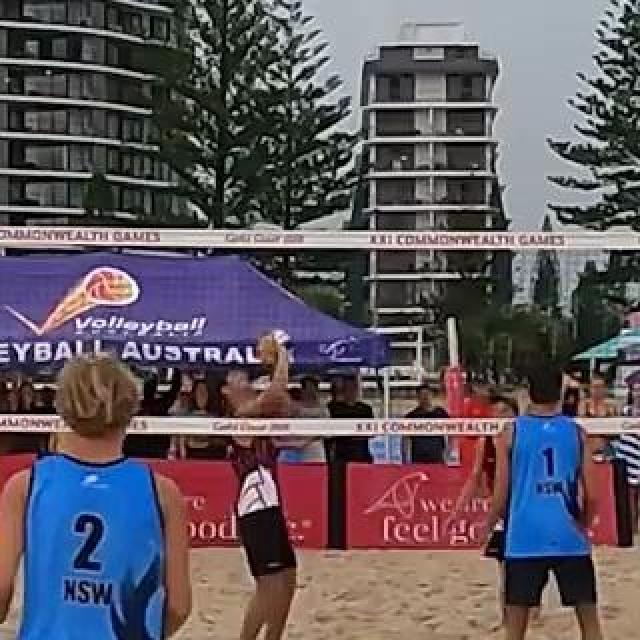volleyball: (259, 329, 293, 365)
